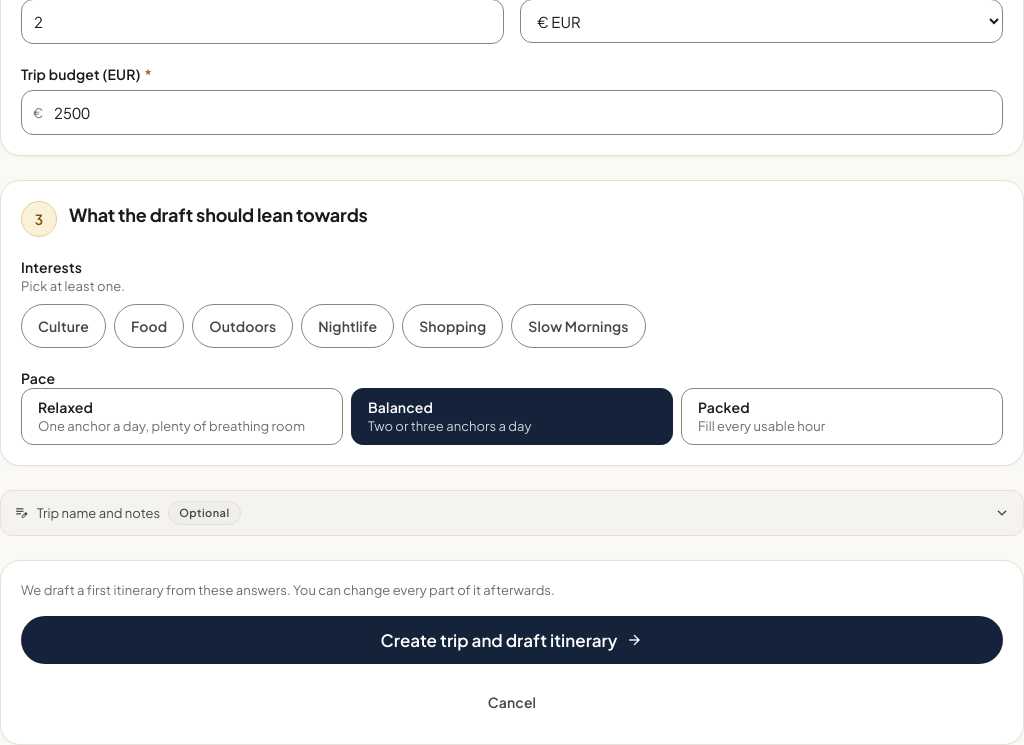
it: CreateTripPage › keeps the two optional answers folded away until they are wanted
(page scrolled)
Expected: the text "Optional" is shown, x1=168 y1=501 x2=241 y2=525
Click the text "Trip name and notes".
click(139, 513)  # box x1=37 y1=501 x2=240 y2=525
(page scrolled)
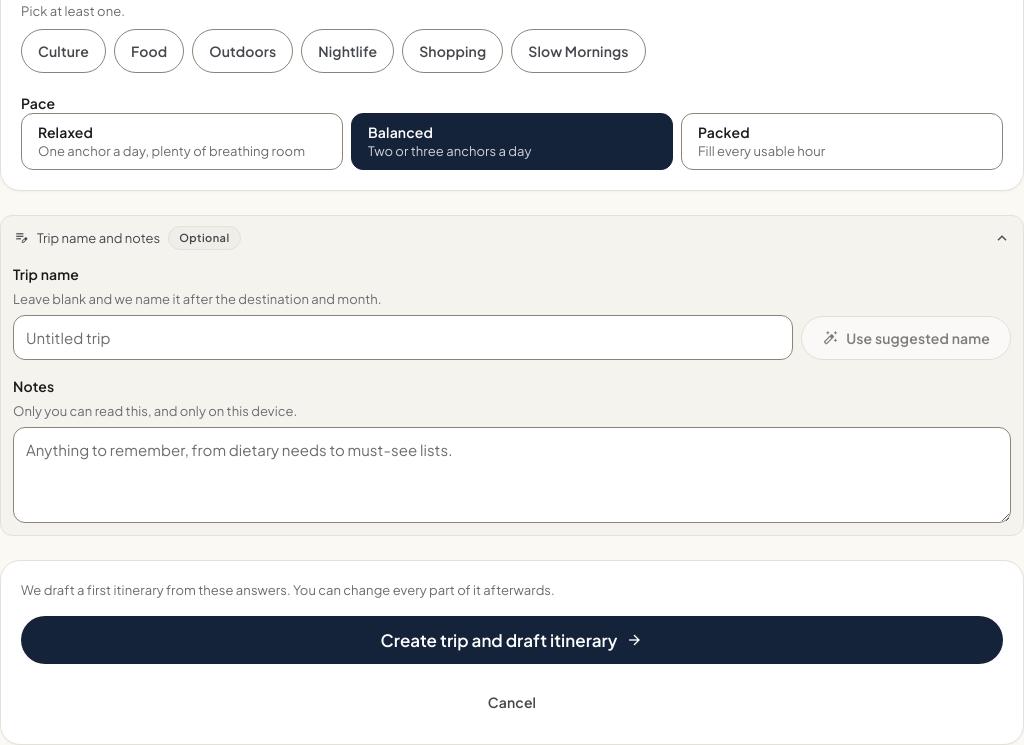
Result: the field labelled "Trip name" is shown at x1=13 y1=315 x2=793 y2=360
Result: the text box labelled "Notes" is shown at x1=13 y1=427 x2=1011 y2=523
